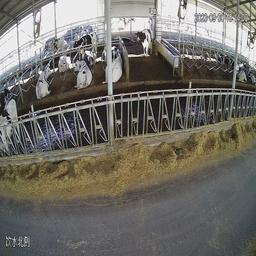cow: (0, 94, 21, 162), (72, 31, 98, 65), (102, 52, 124, 85), (34, 66, 53, 101), (74, 58, 93, 91), (135, 26, 154, 59), (44, 36, 65, 59), (105, 44, 120, 63), (58, 54, 71, 74), (236, 66, 247, 85), (2, 84, 12, 104), (247, 66, 256, 86)
